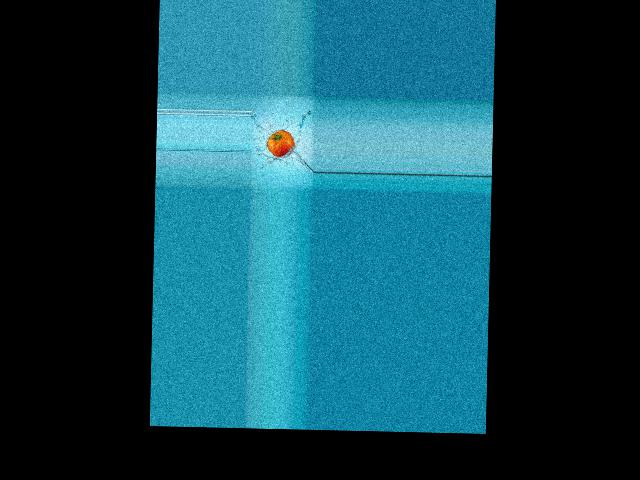tomato: (266, 130, 294, 157)
